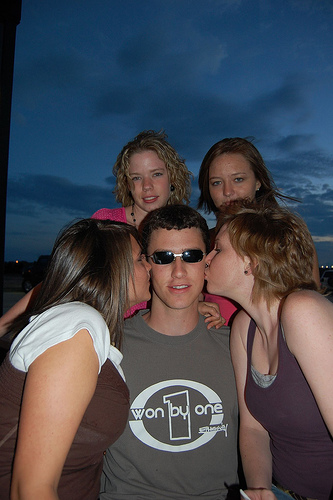without_mask: (203, 211, 310, 305), (140, 210, 219, 313), (73, 220, 157, 316), (114, 132, 184, 216), (200, 137, 272, 210)
